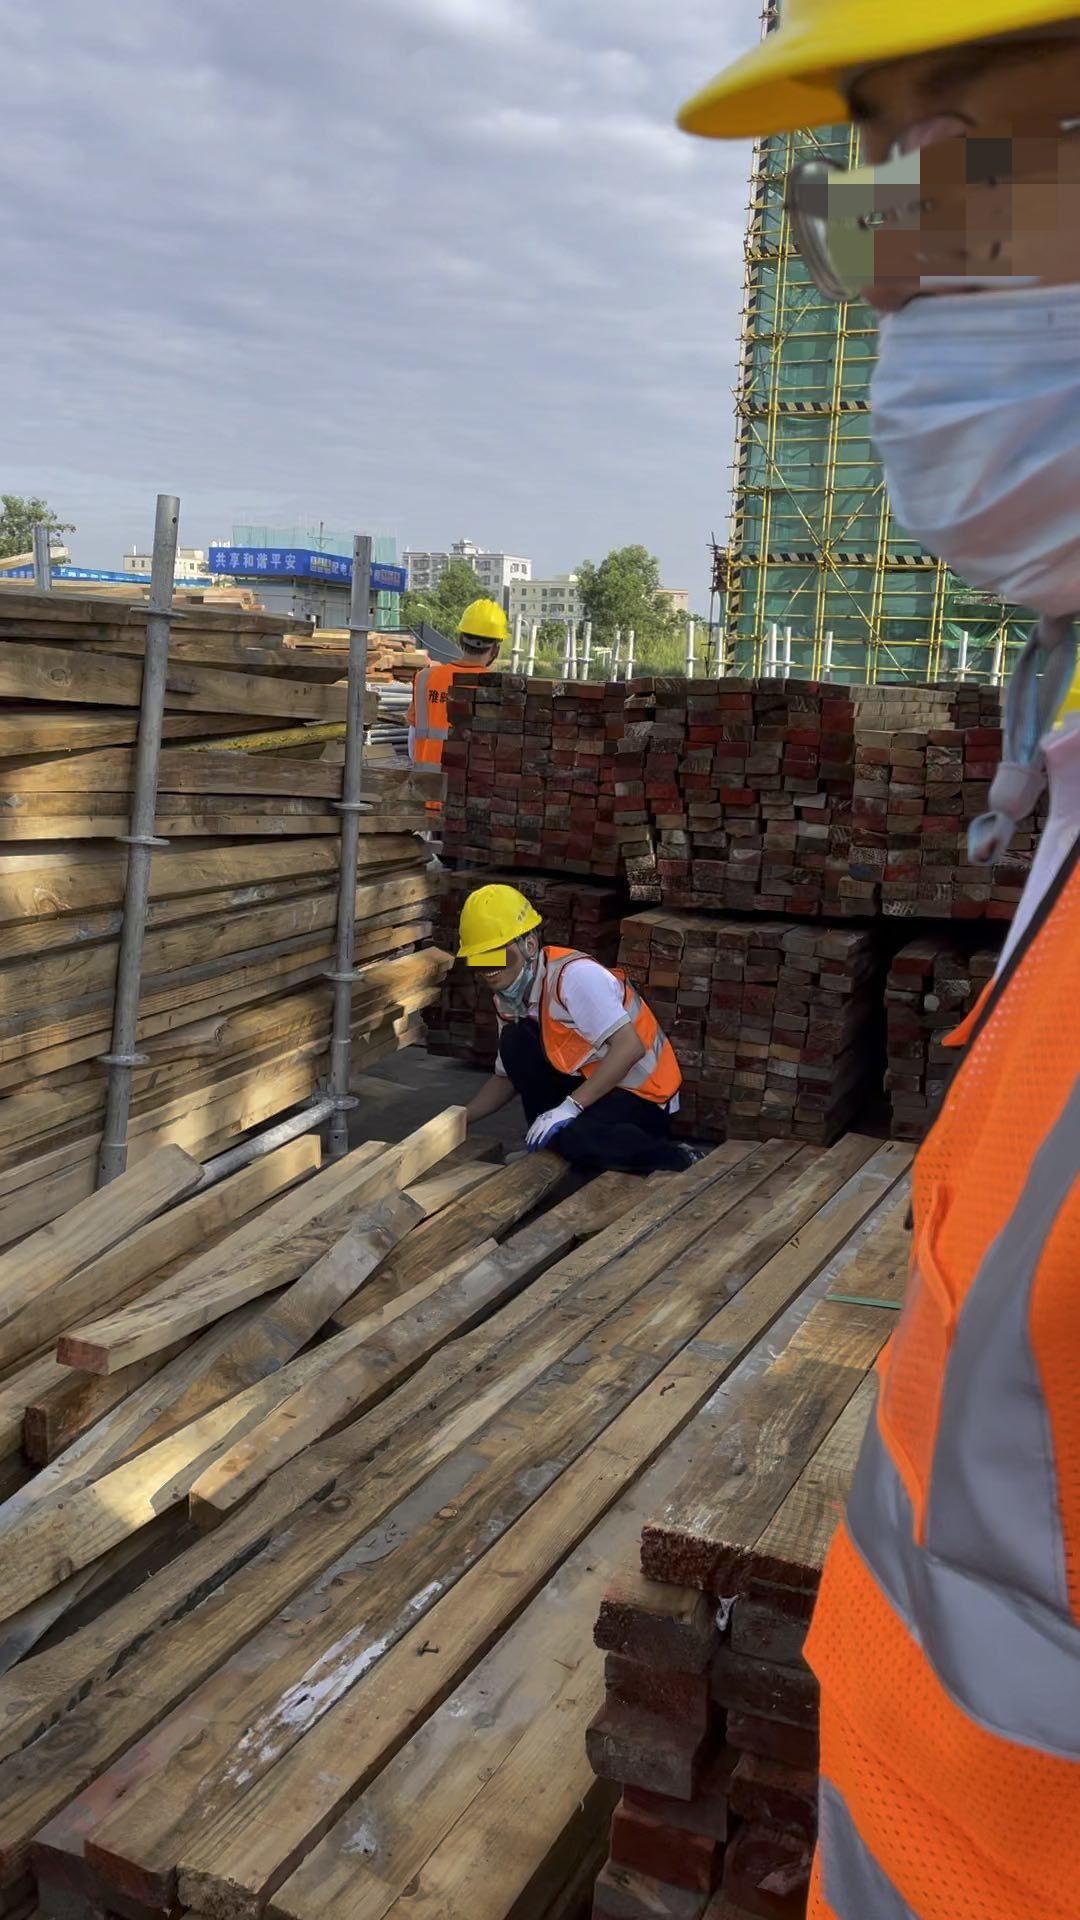helmet: (690, 9, 1080, 147), (459, 872, 535, 957), (453, 596, 514, 659)
person: (680, 1, 1077, 1920), (433, 874, 706, 1174), (402, 570, 516, 784)
slogan: (214, 549, 301, 572)
vest: (765, 774, 1080, 1831), (514, 947, 669, 1100), (414, 655, 488, 765)
wood: (1, 1119, 969, 1919), (1, 598, 414, 1218), (651, 657, 1047, 939), (418, 665, 622, 1025), (598, 914, 855, 1170), (886, 937, 1016, 1149)
